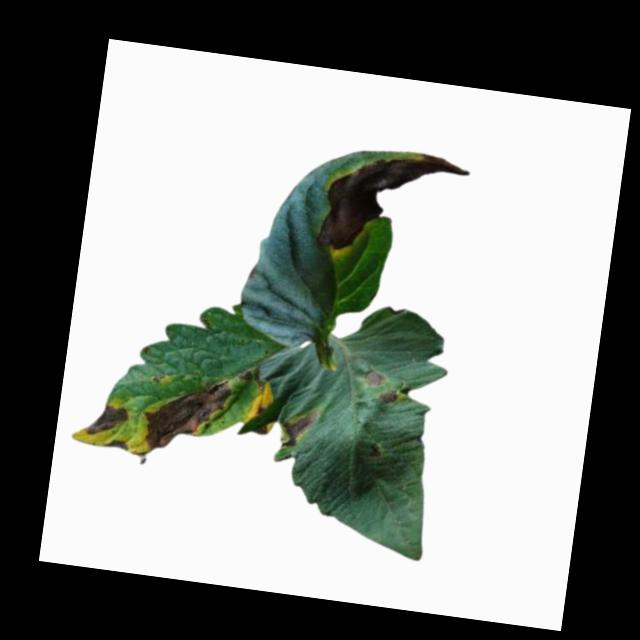Early_blight: (310, 141, 472, 269), (140, 368, 232, 460), (82, 402, 130, 441), (280, 407, 319, 450), (243, 383, 273, 426), (363, 369, 387, 388), (105, 438, 129, 454), (380, 391, 400, 406)
